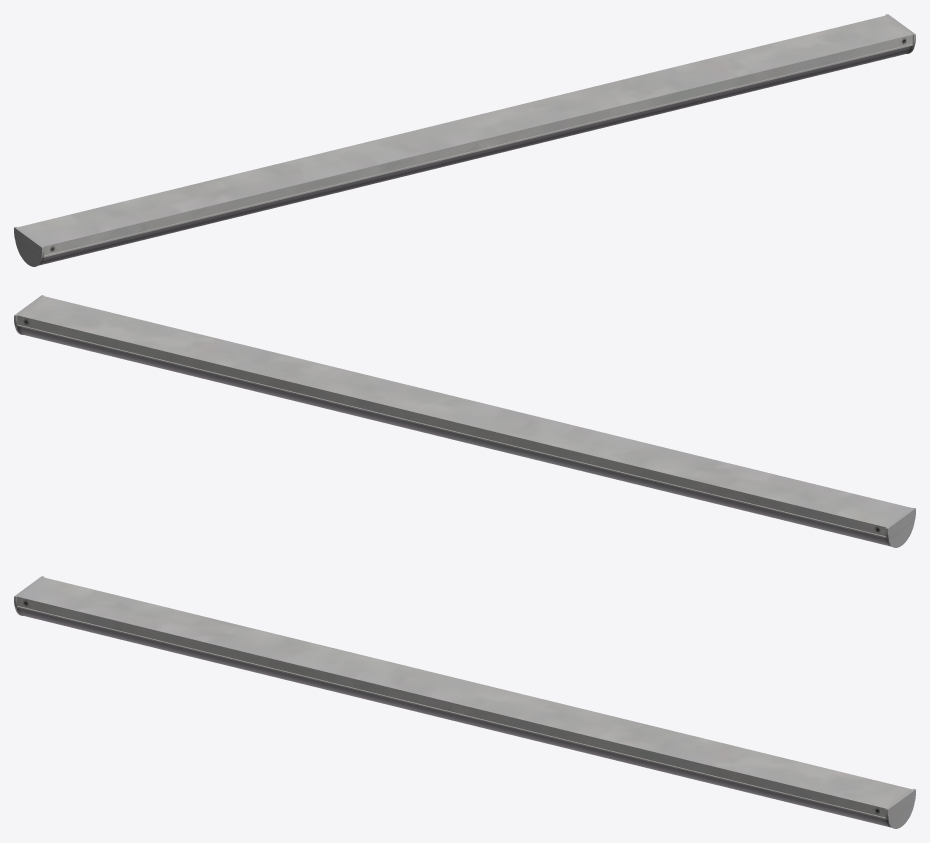
Rendered from mounted-fluorescent--7.gltf.
3 renders of one model, top to bottom at view 1: azimuth 30°, elevation 25°; view 2: azimuth 150°, elevation 25°; view 3: azimuth 330°, elevation 25°, orthographic.
Visible parts, largest first — view 1: mounted_fluorescent_lights_g; view 2: mounted_fluorescent_lights_g; view 3: mounted_fluorescent_lights_g.
Boxes of the visible parts, box(x1,y1,x2,y2) form: mounted_fluorescent_lights_g: box(14, 14, 915, 266); mounted_fluorescent_lights_g: box(14, 295, 915, 547); mounted_fluorescent_lights_g: box(14, 576, 915, 828).
Bounding box in the file's own units: 0.9055 × 0.027 × 0.0502.
Materials: 2 (2 with a texture image).
